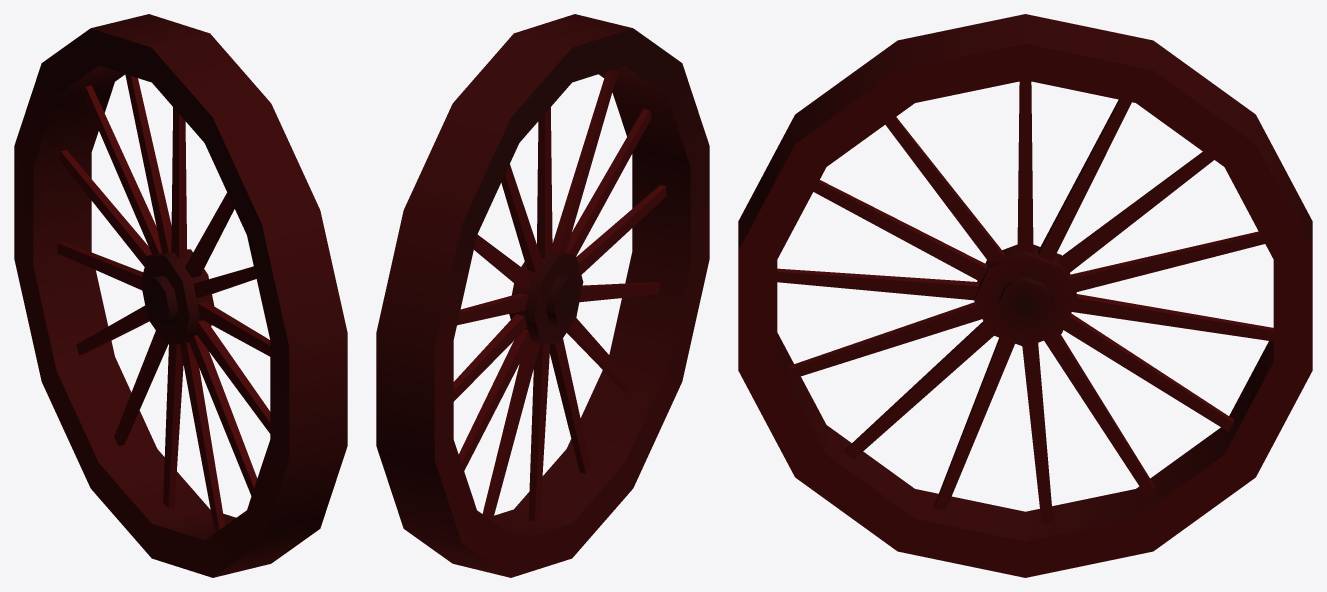
File: WagonWheel_Wheel.glb
The picture shows the model from 3 angles, left to right: view 1: azimuth 30°, elevation 25°; view 2: azimuth 150°, elevation 25°; view 3: azimuth 270°, elevation 25°; orthographic projection. The views are drawn at different scales.
Parts seen in each view (by area): view 1: WagonWheel_Wheel; view 2: WagonWheel_Wheel; view 3: WagonWheel_Wheel.
Part boxes in pixels (x1,y1,x2,y2): WagonWheel_Wheel: (14, 14, 347, 577); WagonWheel_Wheel: (376, 14, 709, 577); WagonWheel_Wheel: (738, 14, 1312, 577).
Size of the model in its own units: 0.6908 by 5.78 by 5.63.
